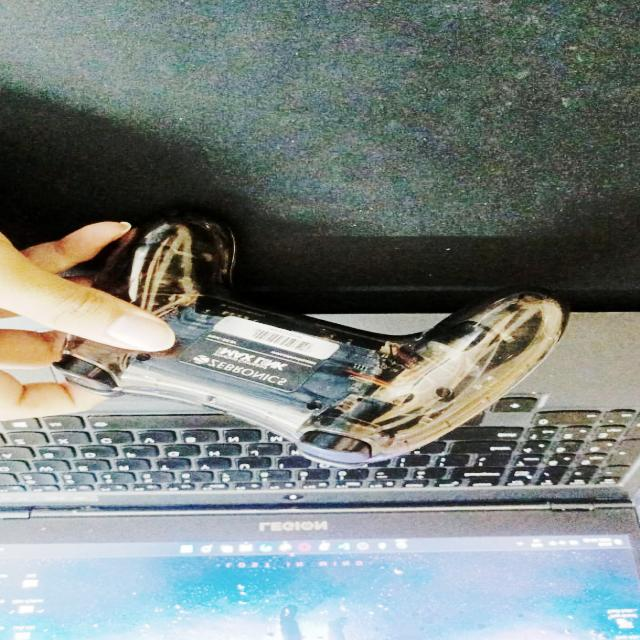gamepad: (45, 208, 566, 468)
